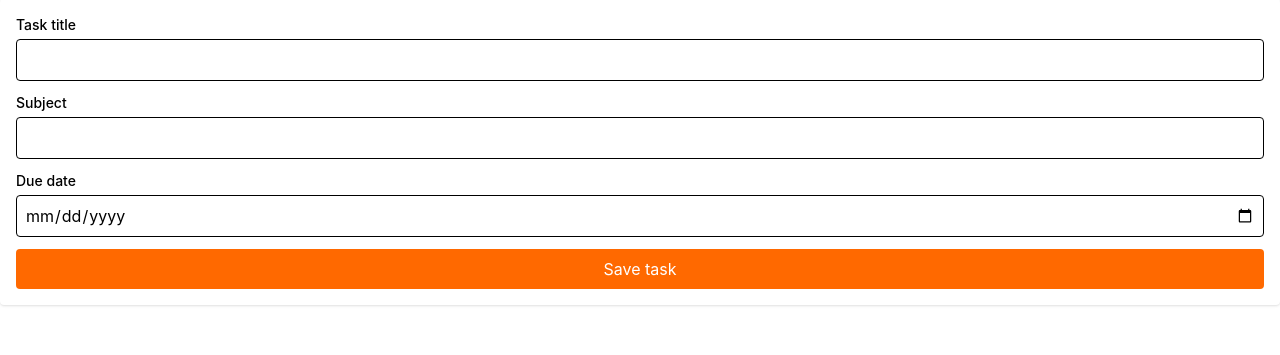
Scenario: shows an error when title and date are missing
Click the button "Save task". click: x=640, y=269
box: left=16, top=249, right=1264, bottom=289
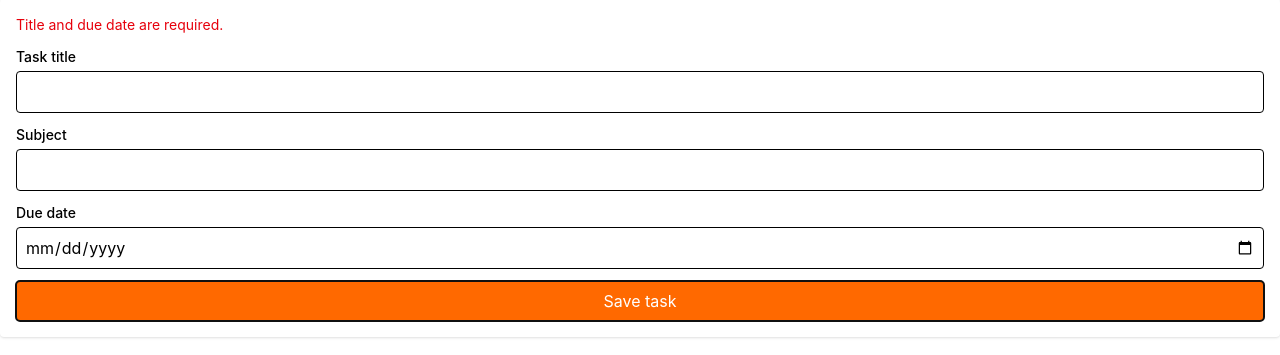
Expected: the message shows "required", left=16, top=16, right=223, bottom=33
